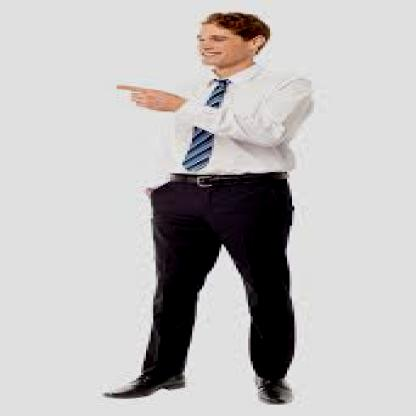Right: (102, 74, 193, 120)
